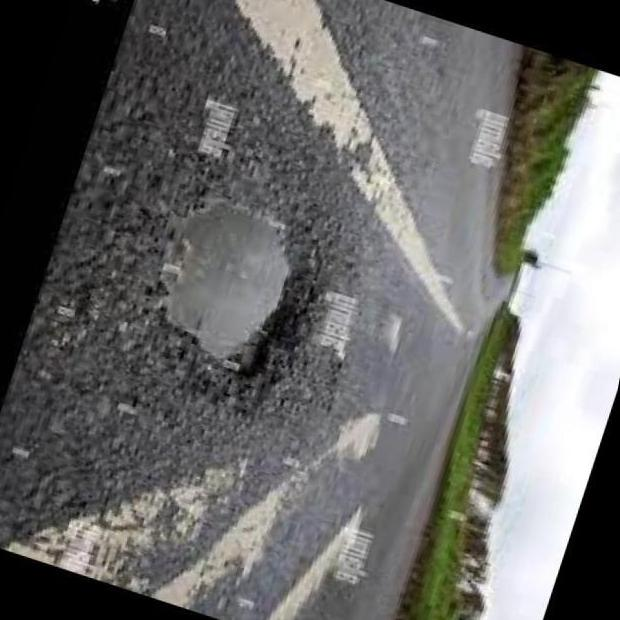pothole: (135, 171, 342, 424)
